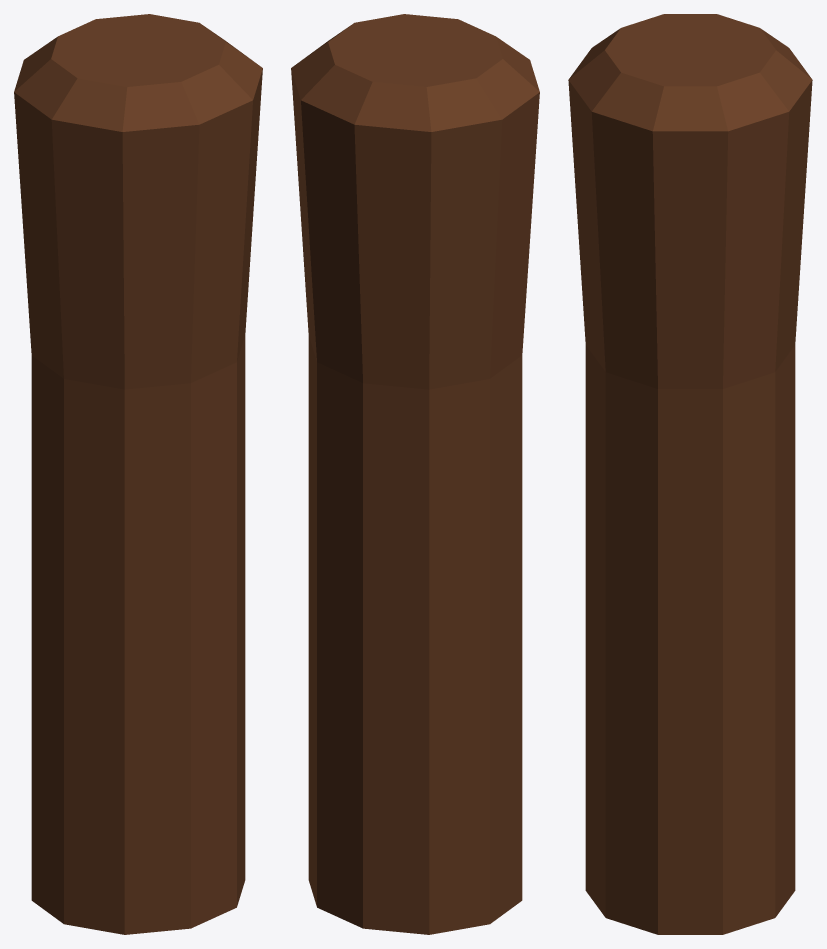
File: Bell Wood Overlay.glb
The picture shows the model from 3 angles, left to right: view 1: azimuth 30°, elevation 25°; view 2: azimuth 150°, elevation 25°; view 3: azimuth 270°, elevation 25°; orthographic projection.
Parts seen in each view (by area): view 1: Cylinder; view 2: Cylinder; view 3: Cylinder.
Boxes of the visible parts, x1,y1,x2,y2 form: Cylinder: [14, 14, 262, 934]; Cylinder: [291, 14, 539, 934]; Cylinder: [568, 14, 812, 934].
Size of the model in its own units: 0.0186 by 0.0708 by 0.0186.
1 material, 1 textured.
